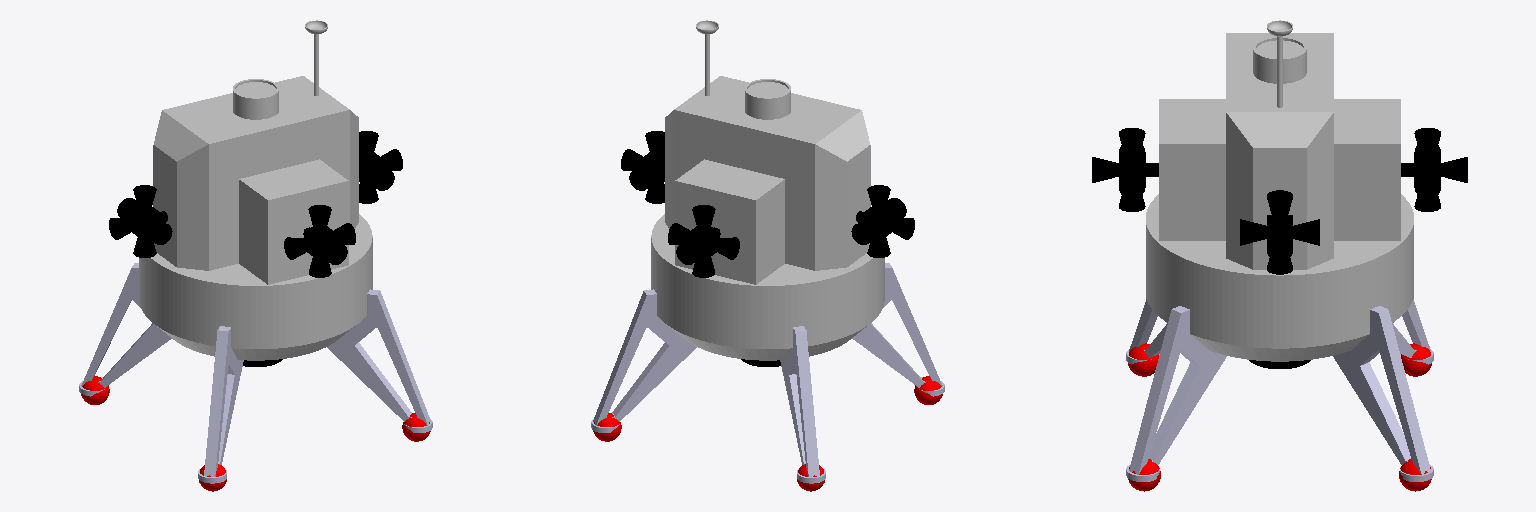
The robot description file, URDF, robot "lunar_lander":
<?xml version="1.0"?>
<robot name="lunar_lander">
  
  <!-- ===================================================== -->
  <!-- 1) MAIN BODY: Silinder dengan diameter 1 m, tinggi 1 m -->
  <!-- ===================================================== -->
  <link name="main_body">
    <inertial>
      <!-- Visual/main link origin di (0,0,0) tetapi CoM ter-offset ke (0,0,0.5) -->
      <origin xyz="0 0 0.5" rpy="0 0 0"/>
      <mass value="110"/>
      <!-- Perhitungan inersia untuk silinder dengan M=110, R=0.5, L=1.0 -->
      <inertia ixx="16.04" ixy="0" ixz="0" iyy="16.04" iyz="0" izz="13.75"/>
    </inertial>
    <visual>
      <origin xyz="0 0 0" rpy="0 0 0"/>
      <geometry>
        <!-- Gunakan file mesh MainBody.dae, skala 1 -->
        <mesh filename="meshesv2/MainBody.dae" scale="1 1 1"/>
      </geometry>
      <material name="silver">
        <color rgba="0.8 0.8 0.8 1.0"/>
      </material>
    </visual>
    <collision>
      <origin xyz="0 0 0" rpy="0 0 0"/>
      <geometry>
        <mesh filename="meshesv2/MainBody.dae" scale="1 1 1"/>
      </geometry>
    </collision>
  </link>
  
  <!-- ===================================================== -->
  <!-- 2) MAIN THRUSTER -->
  <!-- ===================================================== -->
  <link name="main_thruster">
    <inertial>
      <!-- CoM pada main_thruster: (0,0,0.43) relatif ke origin link main_thruster -->
      <origin xyz="0 0 0.43" rpy="0 0 0"/>
      <mass value="20"/>
      <inertia ixx="0.5" ixy="0" ixz="0" iyy="0.5" iyz="0" izz="0.2"/>
    </inertial>
    <visual>
      <!-- Nozzle: letakkan di (0,0,-0.16) relatif ke main_thruster -->
      <!-- <origin xyz="0 0 -0.16" rpy="0 0 0"/> -->
      <origin xyz="0 0 0.0" rpy="0 0 0"/>
      <geometry>
        <mesh filename="meshesv2/MainThruster.dae" scale="1 1 1"/>
      </geometry>
      <material name="black">
        <color rgba="0 0 0 1"/>
      </material>
    </visual>
    <collision>
      <origin xyz="0 0 0.0" rpy="0 0 0"/>
      <geometry>
        <mesh filename="meshesv2/MainThruster.dae" scale="1 1 1"/>
      </geometry>
    </collision>
  </link>

  <joint name="main_thruster_joint" type="fixed">
    <parent link="main_body"/>
    <!-- Pasang main_thruster di bawah main body, misalnya di (0,0,-0.5) -->
    <child link="main_thruster"/>
    <origin xyz="0 0 0.0" rpy="0 0 0"/>
  </joint>
  
  <!-- ===================================================== -->
  <!-- 3) RCS Thrusters (4 buah) -->
  <!-- ===================================================== -->
  <!-- RCS Front (RCSF): ditempatkan di sisi depan, origin: (0.55, 0, 0.6) -->
  <link name="rcs_front">
    <inertial>
      <origin xyz="0.55 0 0.6" rpy="0 0 0"/>
      <mass value="5"/>
      <inertia ixx="0.1" ixy="0" ixz="0" iyy="0.1" iyz="0" izz="0.1"/>
    </inertial>
    <visual>
      <origin xyz="0 0 0" rpy="0 0 0"/>
      <geometry>
        <mesh filename="meshesv2/RCSF.dae" scale="1 1 1"/>
      </geometry>
      <material name="black">
        <color rgba="0 0 0 1"/>
      </material>
    </visual>
    <collision>
      <origin xyz="0 0 0" rpy="0 0 0"/>
      <geometry>
        <mesh filename="meshesv2/RCSF.dae" scale="1 1 1"/>
      </geometry>
    </collision>
  </link>
  
  <joint name="rcs_front_joint" type="fixed">
    <parent link="main_body"/>
    <child link="rcs_front"/>
    <origin xyz="0.0 0 0.0" rpy="0 0 0"/>
  </joint>
  
  <!-- RCS Back (RCSB): origin di (-0.55, 0, 0.6) -->
  <link name="rcs_back">
    <inertial>
      <origin xyz="-0.55 0 0.6" rpy="0 0 0"/>
      <mass value="5"/>
      <inertia ixx="0.1" ixy="0" ixz="0" iyy="0.1" iyz="0" izz="0.1"/>
    </inertial>
    <visual>
      <origin xyz="0 0 0" rpy="0 0 0"/>
      <geometry>
        <mesh filename="meshesv2/RCSB.dae" scale="1 1 1"/>
      </geometry>
      <material name="black">
        <color rgba="0 0 0 1"/>
      </material>
    </visual>
    <collision>
      <origin xyz="0 0 0" rpy="0 0 0"/>
      <geometry>
        <mesh filename="meshesv2/RCSB.dae" scale="1 1 1"/>
      </geometry>
    </collision>
  </link>
  
  <joint name="rcs_back_joint" type="fixed">
    <parent link="main_body"/>
    <child link="rcs_back"/>
    <origin xyz="0 0 0 " rpy="0 0 0"/>
  </joint>
  
  <!-- RCS Left (RCSL): origin di (0, 0.55, 0.6) -->
  <link name="rcs_left">
    <inertial>
      <origin xyz="0 0.55 0.6" rpy="0 0 0"/>
      <mass value="5"/>
      <inertia ixx="0.1" ixy="0" ixz="0" iyy="0.1" iyz="0" izz="0.1"/>
    </inertial>
    <visual>
      <origin xyz="0 0 0" rpy="0 0 0"/>
      <geometry>
        <mesh filename="meshesv2/RCSL.dae" scale="1 1 1"/>
      </geometry>
      <material name="black">
        <color rgba="0 0 0 1"/>
      </material>
    </visual>
    <collision>
      <origin xyz="0 0 0" rpy="0 0 0"/>
      <geometry>
        <mesh filename="meshesv2/RCSL.dae" scale="1 1 1"/>
      </geometry>
    </collision>
  </link>
  
  <joint name="rcs_left_joint" type="fixed">
    <parent link="main_body"/>
    <child link="rcs_left"/>
    <origin xyz="0 0 0 " rpy="0 0 0"/>
  </joint>
  
  <!-- RCS Right (RCSR): origin di (0, -0.55, 0.6) -->
  <link name="rcs_right">
    <inertial>
      <origin xyz="0 -0.55 0.6" rpy="0 0 0"/>
      <mass value="5"/>
      <inertia ixx="0.1" ixy="0" ixz="0" iyy="0.1" iyz="0" izz="0.1"/>
    </inertial>
    <visual>
      <origin xyz="0 0 0" rpy="0 0 0"/>
      <geometry>
        <mesh filename="meshesv2/RCSR.dae" scale="1 1 1"/>
      </geometry>
      <material name="black">
        <color rgba="0 0 0 1"/>
      </material>
    </visual>
    <collision>
      <origin xyz="0 0 0" rpy="0 0 0"/>
      <geometry>
        <mesh filename="meshesv2/RCSR.dae" scale="1 1 1"/>
      </geometry>
    </collision>
  </link>
  
  <joint name="rcs_right_joint" type="fixed">
    <parent link="main_body"/>
    <child link="rcs_right"/>
    <origin xyz="0 0 0" rpy="0 0 0"/>
  </joint>
  
  <!-- ===================================================== -->
  <!-- 4) LEGS (4 buah) -->
  <!-- ===================================================== -->
  <!-- Leg Front Left (LegFL) -->
  <link name="leg_front_left">
    <inertial>
      <origin xyz="0.385 0.385 -0.121" rpy="0 0 0"/>
      <mass value="5"/>
      <inertia ixx="0.02" ixy="0" ixz="0" iyy="0.02" iyz="0" izz="0.01"/>
    </inertial>
    <visual>
      <origin xyz="0 0 0" rpy="0 0 0"/>
      <geometry>
        <mesh filename="meshesv2/LegFL.dae" scale="1 1 1"/>
      </geometry>
    </visual>
    <collision>
      <origin xyz="0 0 0" rpy="0 0 0"/>
      <geometry>
        <mesh filename="meshesv2/LegFL.dae" scale="1 1 1"/>
      </geometry>
    </collision>
  </link>
  <joint name="leg_front_left_joint" type="fixed">
    <parent link="main_body"/>
    <child link="leg_front_left"/>
    <origin xyz="0 0 0" rpy="0 0 0"/>
  </joint>
  
  <!-- Leg Front Right (LegFR) -->
  <link name="leg_front_right">
    <inertial>
      <origin xyz="0.385 -0.385 -0.121" rpy="0 0 0"/>
      <mass value="5"/>
      <inertia ixx="0.02" ixy="0" ixz="0" iyy="0.02" iyz="0" izz="0.01"/>
    </inertial>
    <visual>
      <origin xyz="0 0 0" rpy="0 0 0"/>
      <geometry>
        <mesh filename="meshesv2/LegFR.dae" scale="1 1 1"/>
      </geometry>
    </visual>
    <collision>
      <origin xyz="0 0 0" rpy="0 0 0"/>
      <geometry>
        <mesh filename="meshesv2/LegFR.dae" scale="1 1 1"/>
      </geometry>
    </collision>
  </link>
  <joint name="leg_front_right_joint" type="fixed">
    <parent link="main_body"/>
    <!-- Pasang di (0.385, -0.385, -0.121) -->
    <child link="leg_front_right"/>
    <origin xyz="0 0 0" rpy="0 0 0"/>
  </joint>
  
  <!-- Leg Back Left (LegBL) -->
  <link name="leg_back_left">
    <inertial>
      <origin xyz="-0.385 0.385 -0.121" rpy="0 0 0"/>
      <mass value="5"/>
      <inertia ixx="0.02" ixy="0" ixz="0" iyy="0.02" iyz="0" izz="0.01"/>
    </inertial>
    <visual>
      <origin xyz="0 0 0" rpy="0 0 0"/>
      <geometry>
        <mesh filename="meshesv2/LegBL.dae" scale="1 1 1"/>
      </geometry>
    </visual>
    <collision>
      <origin xyz="0 0 0" rpy="0 0 0"/>
      <geometry>
        <mesh filename="meshesv2/LegBL.dae" scale="1 1 1"/>
      </geometry>
    </collision>
  </link>
  <joint name="leg_back_left_joint" type="fixed">
    <parent link="main_body"/>
    <!-- Pasang di (-0.385, 0.385, -0.121) -->
    <child link="leg_back_left"/>
    <origin xyz="0 0 0" rpy="0 0 0"/>
  </joint>
  
  <!-- Leg Back Right (LegBR) -->
  <link name="leg_back_right">
    <inertial>
      <origin xyz="-0.385 -0.385 -0.121" rpy="0 0 0"/>
      <mass value="5"/>
      <inertia ixx="0.02" ixy="0" ixz="0" iyy="0.02" iyz="0" izz="0.01"/>
    </inertial>
    <visual>
      <origin xyz="0 0 0" rpy="0 0 0"/>
      <geometry>
        <mesh filename="meshesv2/LegBR.dae" scale="1 1 1"/>
      </geometry>
    </visual>
    <collision>
      <origin xyz="0 0 0" rpy="0 0 0"/>
      <geometry>
        <mesh filename="meshesv2/LegBR.dae" scale="1 1 1"/>
      </geometry>
    </collision>
  </link>
  <joint name="leg_back_right_joint" type="fixed">
    <parent link="main_body"/>
    <!-- Pasang di (-0.385, -0.385, -0.121) -->
    <child link="leg_back_right"/>
    <origin xyz="0 0 0" rpy="0 0 0"/>
  </joint>
  
  <!-- ===================================================== -->
  <!-- 5) SENSOR KAKI (opsional, bisa digabungkan dalam visual kaki) -->
  <!-- Untuk contoh, kita hanya menunjukkan sensor untuk Leg Front Left -->
  <link name="leg_front_left_sensor">
    <visual>
      <origin xyz="0 0 0" rpy="0 0 0"/>
      <geometry>
        <sphere radius="0.0625"/>
      </geometry>
      <material name="red">
        <color rgba="1 0 0 1"/>
      </material>
    </visual>
    <collision>
      <origin xyz="0 0 0" rpy="0 0 0"/>
      <geometry>
        <sphere radius="0.0625"/>
      </geometry>
      <material name="red">
        <color rgba="1 0 0 1"/>
      </material>
    </collision>
  </link>
  <joint name="leg_front_left_sensor_joint" type="fixed">
    <parent link="leg_front_left"/>
    <child link="leg_front_left_sensor"/>
    <origin xyz="0.505 0.505 -0.415" rpy="0 0 0"/>
  </joint>

  <link name="leg_back_right_sensor">
    <visual>
      <origin xyz="0 0 0" rpy="0 0 0"/>
      <geometry>
        <sphere radius="0.0625"/>
      </geometry>
      <material name="red">
        <color rgba="1 0 0 1"/>
      </material>
    </visual>
    <collision>
      <origin xyz="0 0 0" rpy="0 0 0"/>
      <geometry>
        <sphere radius="0.0625"/>
      </geometry>
      <material name="red">
        <color rgba="1 0 0 1"/>
      </material>
    </collision>
  </link>
  <joint name="leg_back_right_sensor_joint" type="fixed">
    <parent link="leg_back_right"/>
    <child link="leg_back_right_sensor"/>
    <origin xyz="-0.505 -0.505 -0.415" rpy="0 0 0"/>
  </joint>
  
  <link name="leg_front_right_sensor">
    <visual>
      <origin xyz="0 0 0" rpy="0 0 0"/>
      <geometry>
        <sphere radius="0.0625"/>
      </geometry>
      <material name="red">
        <color rgba="1 0 0 1"/>
      </material>
    </visual>
    <collision>
      <origin xyz="0 0 0" rpy="0 0 0"/>
      <geometry>
        <sphere radius="0.0625"/>
      </geometry>
      <material name="red">
        <color rgba="1 0 0 1"/>
      </material>
    </collision>
  </link>
  <joint name="leg_front_right_sensor_joint" type="fixed">
    <parent link="leg_front_right"/>
    <child link="leg_front_right_sensor"/>
    <origin xyz="0.505 -0.505 -0.415" rpy="0 0 0"/>
  </joint>

  <link name="leg_back_left_sensor">
    <visual>
      <origin xyz="0 0 0" rpy="0 0 0"/>
      <geometry>
        <sphere radius="0.0625"/>
      </geometry>
      <material name="red">
        <color rgba="1 0 0 1"/>
      </material>
    </visual>
    <collision>
      <origin xyz="0 0 0" rpy="0 0 0"/>
      <geometry>
        <sphere radius="0.0625"/>
      </geometry>
      <material name="red">
        <color rgba="1 0 0 1"/>
      </material>
    </collision>
  </link>
  <joint name="leg_back_left_sensor_joint" type="fixed">
    <parent link="leg_back_left"/>
    <child link="leg_back_left_sensor"/>
    <origin xyz="-0.505 0.505 -0.415" rpy="0 0 0"/>
  </joint>
</robot>

--- Facts derived from the render (not from the file) ---
3 views of the same robot in one strip: view 1: azimuth 30°, elevation 25°; view 2: azimuth 150°, elevation 25°; view 3: azimuth 270°, elevation 25° (orthographic).
Model lunar_lander with 14 links and 13 joints (13 fixed), rooted at main_body, posed all joints at 0.
Visible links, largest first — view 1: main_body, leg_front_right, leg_back_right, leg_back_left, rcs_right, rcs_back, rcs_front; view 2: main_body, leg_front_left, leg_back_left, leg_back_right, rcs_left, rcs_back, rcs_front; view 3: main_body, leg_front_left, leg_front_right, rcs_front, rcs_left, rcs_right, leg_back_left, leg_back_right, leg_back_right_sensor, leg_back_left_sensor.
Boxes of the visible links, x1,y1,x2,y2 form: main_body: (139, 20, 372, 360); leg_front_right: (327, 289, 432, 432); leg_back_right: (198, 326, 243, 483); leg_back_left: (79, 263, 171, 396); rcs_right: (284, 205, 355, 277); rcs_back: (109, 185, 172, 257); rcs_front: (359, 131, 402, 203); main_body: (651, 20, 884, 360); leg_front_left: (591, 289, 696, 432); leg_back_left: (780, 326, 825, 483); leg_back_right: (852, 263, 944, 396); rcs_left: (668, 205, 739, 277); rcs_back: (851, 185, 914, 257); rcs_front: (621, 131, 664, 203); main_body: (1146, 20, 1413, 361); leg_front_left: (1333, 306, 1433, 481); leg_front_right: (1126, 306, 1226, 481); rcs_front: (1240, 190, 1319, 274); rcs_left: (1401, 128, 1467, 211); rcs_right: (1092, 128, 1158, 211); leg_back_left: (1392, 299, 1433, 364); leg_back_right: (1126, 299, 1167, 364); leg_back_right_sensor: (1128, 343, 1158, 376); leg_back_left_sensor: (1401, 343, 1431, 376).
Size in the robot's own frame: 1.4 by 1.4 by 1.81 metres.
10 mesh visuals loaded from 10 distinct referenced files (10 Collada DAE).
